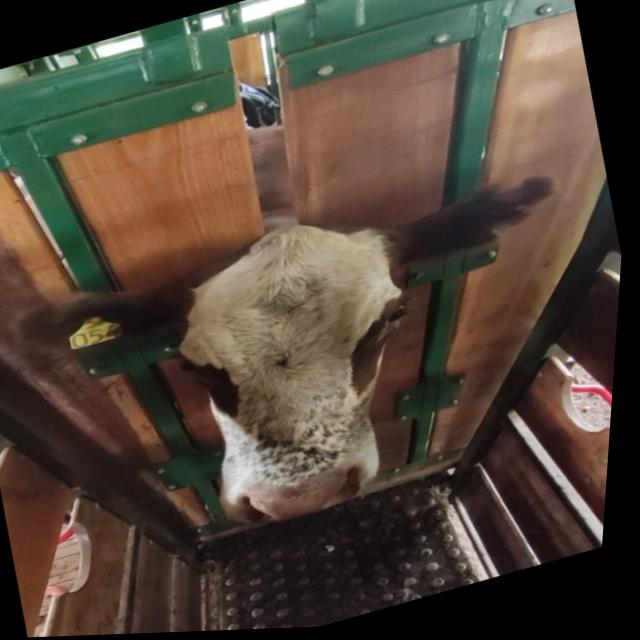cowFace: (143, 200, 459, 548)
